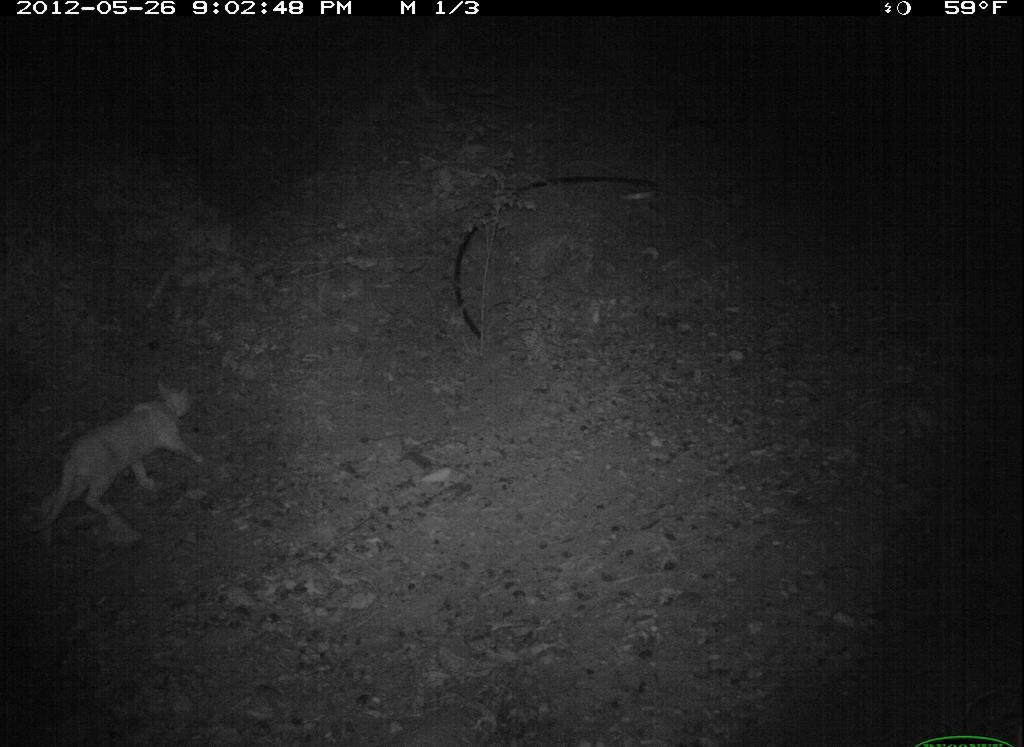cat: (36, 373, 216, 541)
